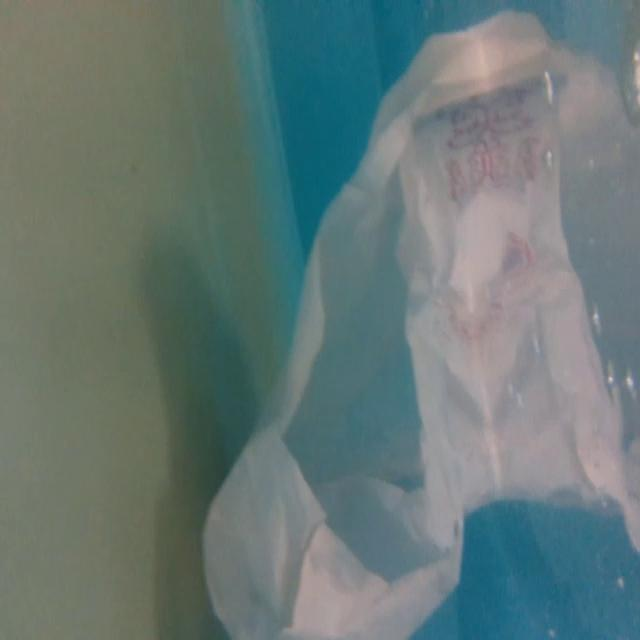plastic bags: (198, 3, 640, 640)
